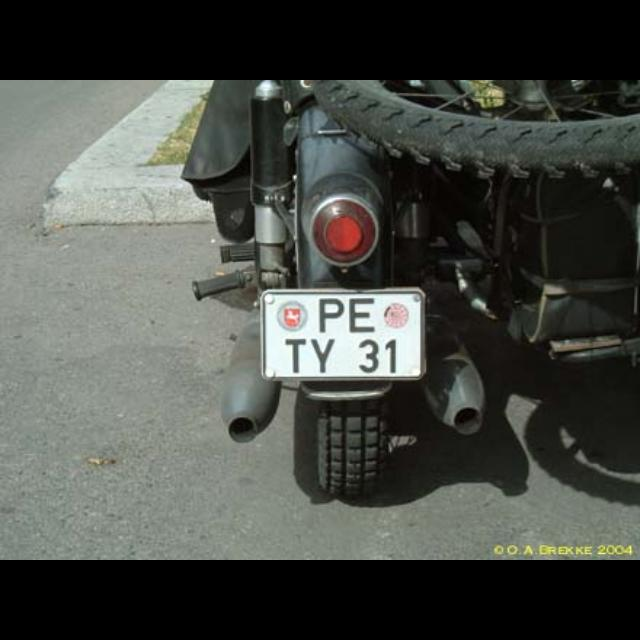d_license_plate: (259, 287, 423, 377)
